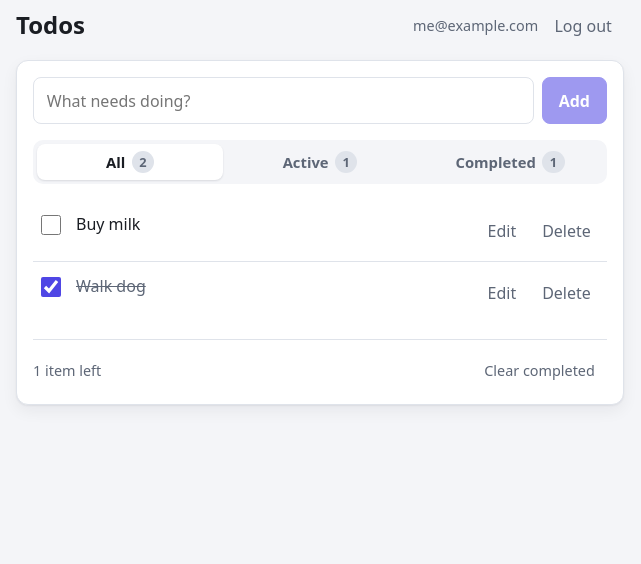
Test: TodosPage › edits a todo inline and saves title and notes
Expected: the text "Buy milk" is shown, x1=76 y1=213 x2=140 y2=235
Click the button with aria-label "Edit “Buy milk”" at x=502, y=231, box x1=475 y1=212 x2=528 y2=249
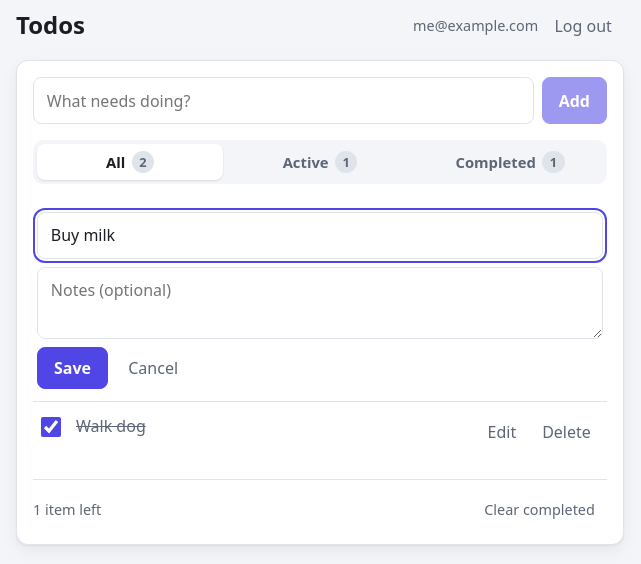
Replace the text in the field named "Title" with "Buy oat milk" at x=320, y=235, box x1=37 y1=212 x2=603 y2=259
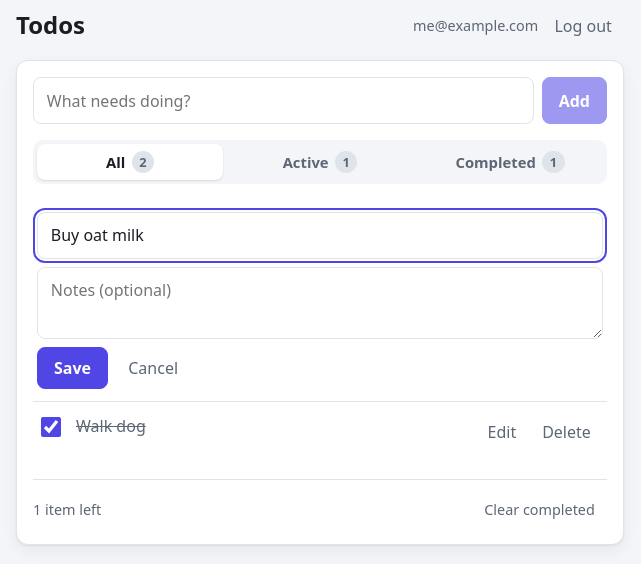
Type "Barista edition" into the text box labelled "Notes" at x=320, y=303, box x1=37 y1=267 x2=603 y2=339
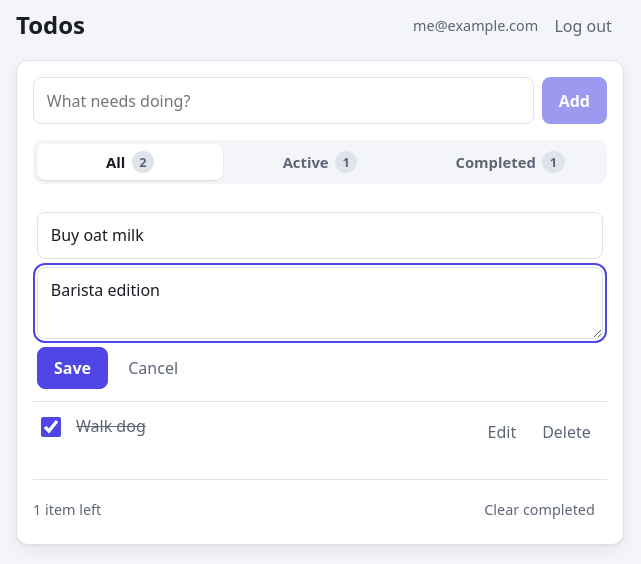
Click the button "Save" at x=72, y=368, box x1=37 y1=347 x2=108 y2=389
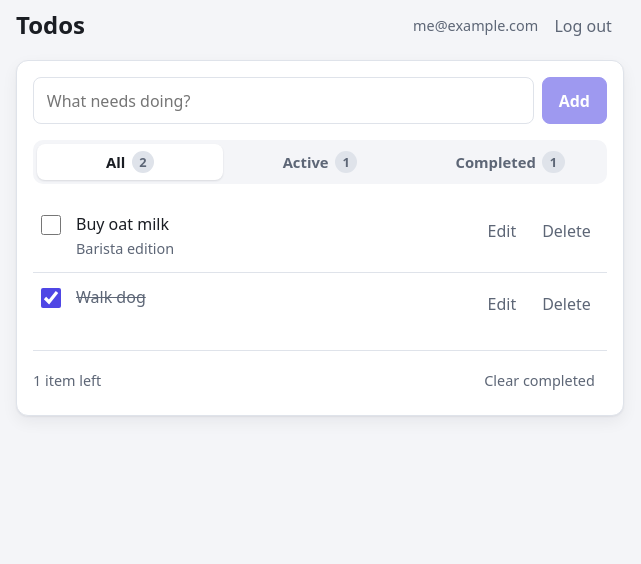
Expected: the field labelled "Title" is not shown
Expected: the text "Buy oat milk" is shown, x1=76 y1=213 x2=169 y2=235
Expected: the text "Barista edition" is shown, x1=76 y1=239 x2=174 y2=258
